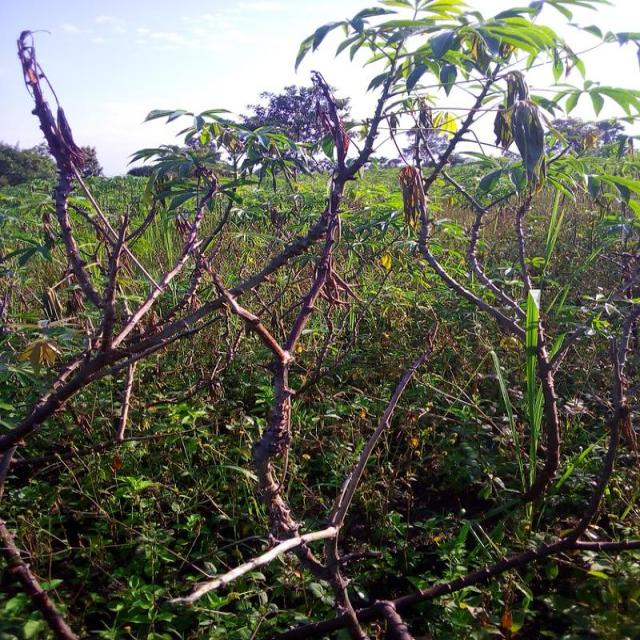cassava leaf: (510, 98, 548, 192)
